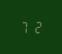seven: (19, 20, 30, 34)
two: (31, 19, 42, 33)
